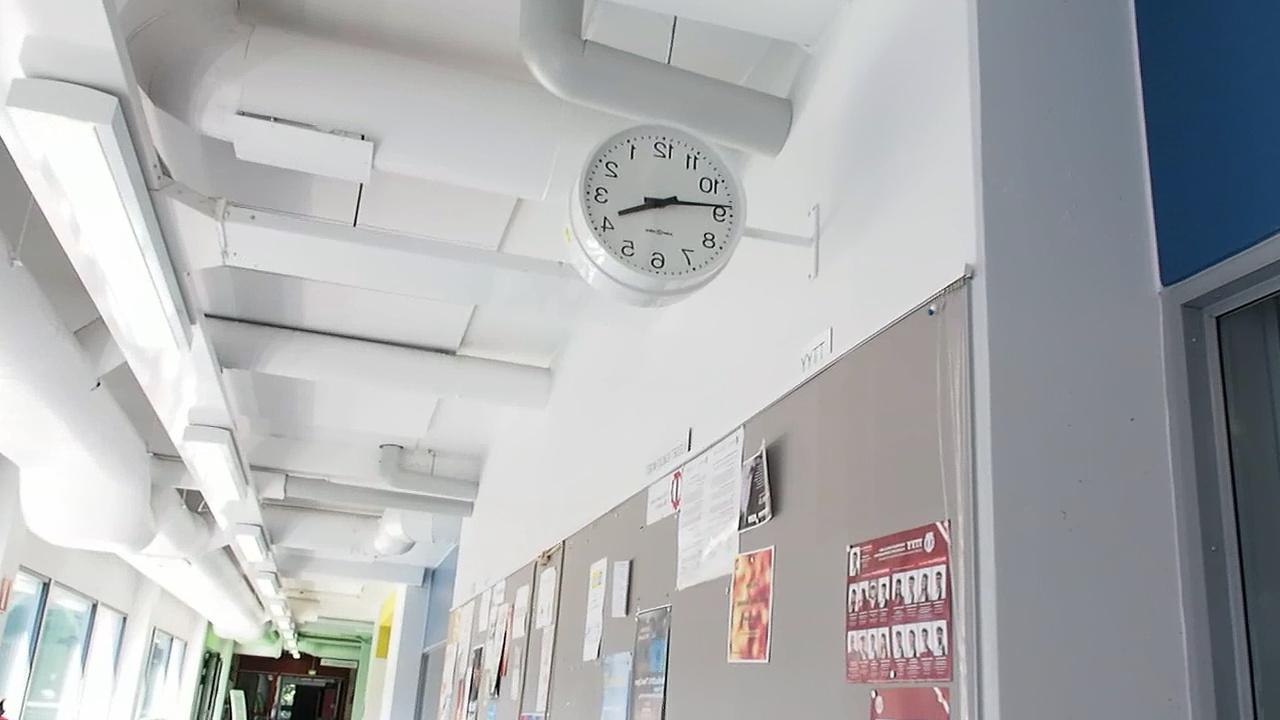clock: (568, 120, 747, 292)
